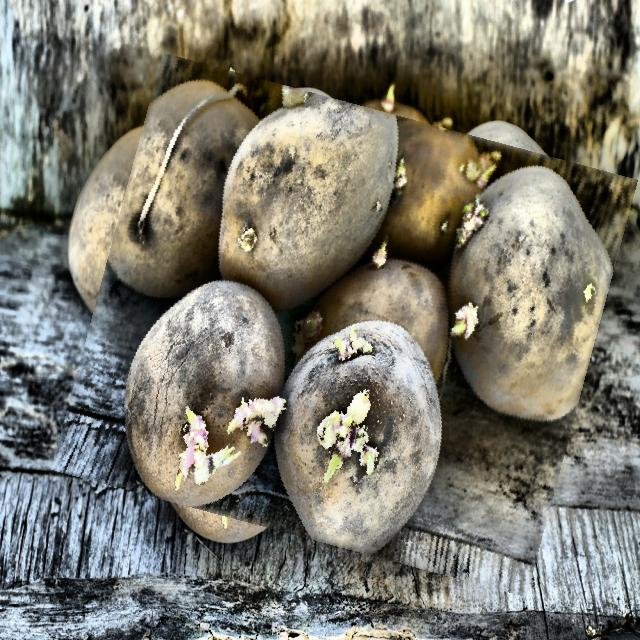potato: (75, 81, 615, 569)
